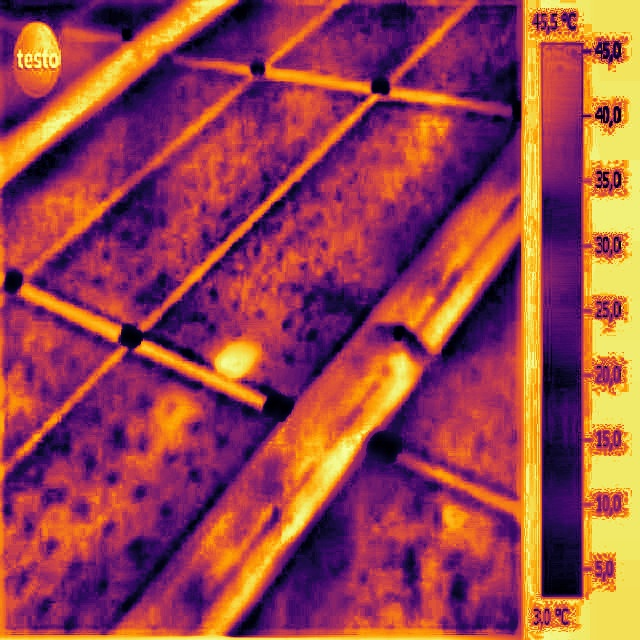Hotspot: (217, 342, 257, 377)
Moderate-High: (217, 342, 257, 377)
